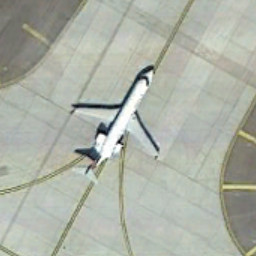Airplane: (58, 53, 167, 189)
